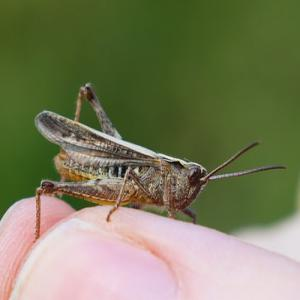locust: (26, 105, 241, 213)
